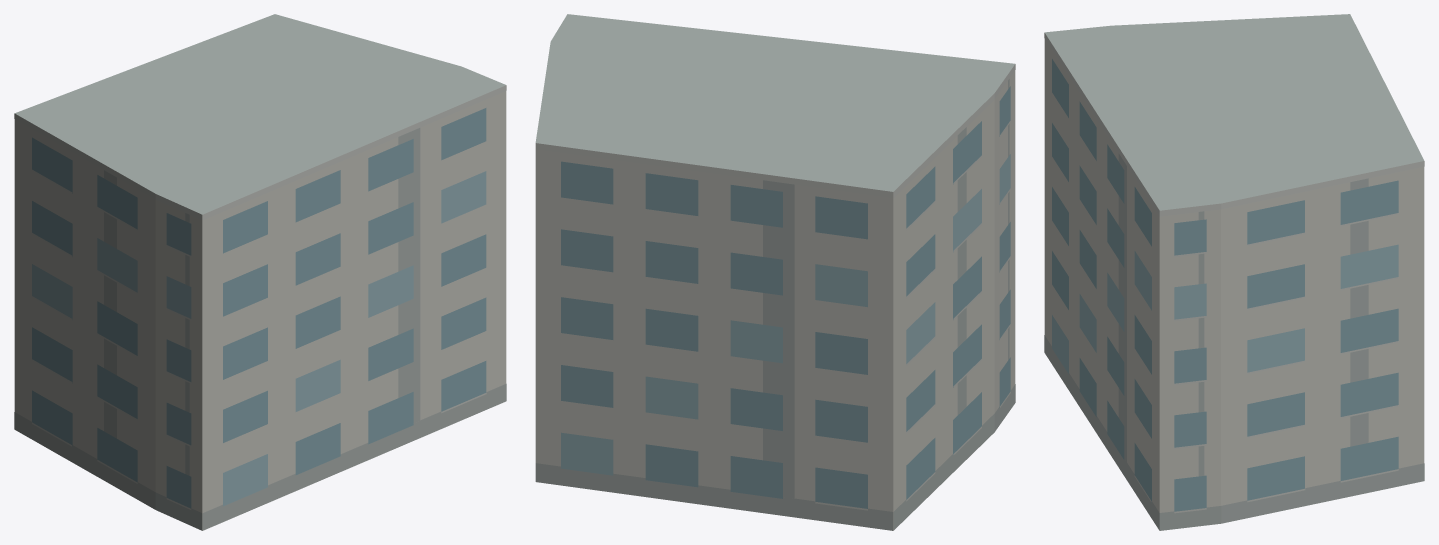
Rendered from survey-upis-32811425.glb.
3 renders of one model, left to right at view 1: azimuth 30°, elevation 25°; view 2: azimuth 150°, elevation 25°; view 3: azimuth 270°, elevation 25°, orthographic. The views are drawn at different scales.
Parts seen in each view (by area): view 1: survey-upis-32811425.tmp; view 2: survey-upis-32811425.tmp; view 3: survey-upis-32811425.tmp.
Boxes of the visible parts, left/top/right/bottom form: survey-upis-32811425.tmp: left=14, top=14, right=506, bottom=530; survey-upis-32811425.tmp: left=535, top=14, right=1015, bottom=530; survey-upis-32811425.tmp: left=1044, top=14, right=1424, bottom=530.
Size of the model in its own units: 17.73 by 13.45 by 14.48.
